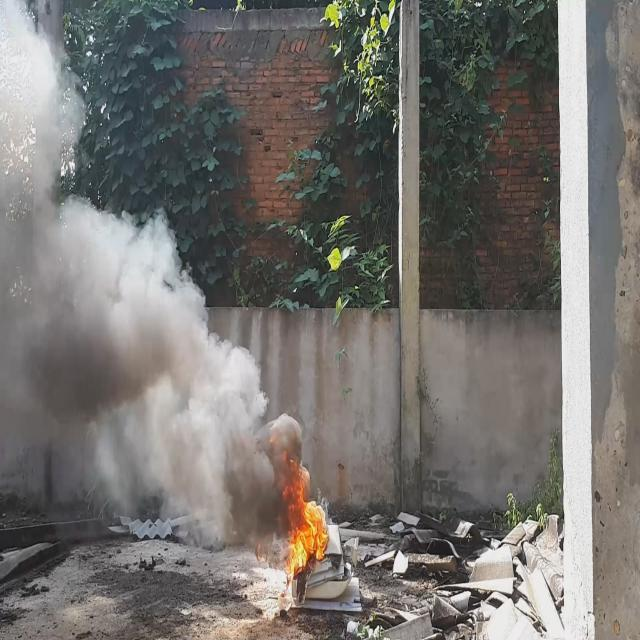Fire: (280, 450, 333, 582)
Smoke: (0, 0, 305, 546)
